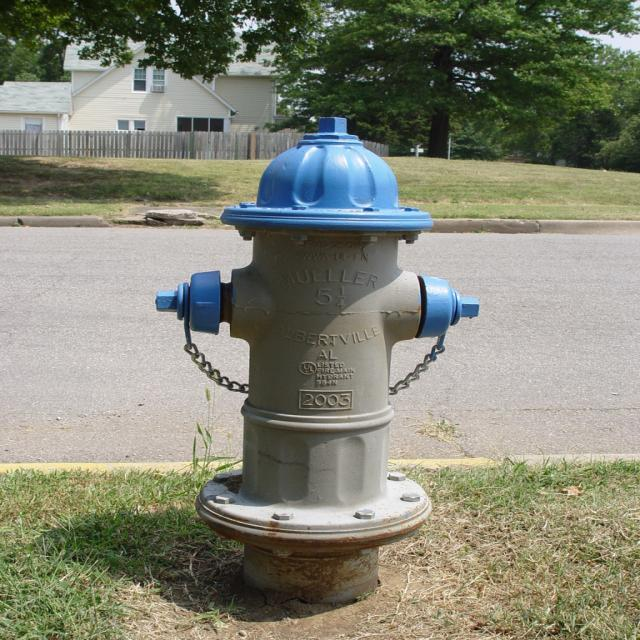fire_hydrant: (152, 118, 482, 604)
